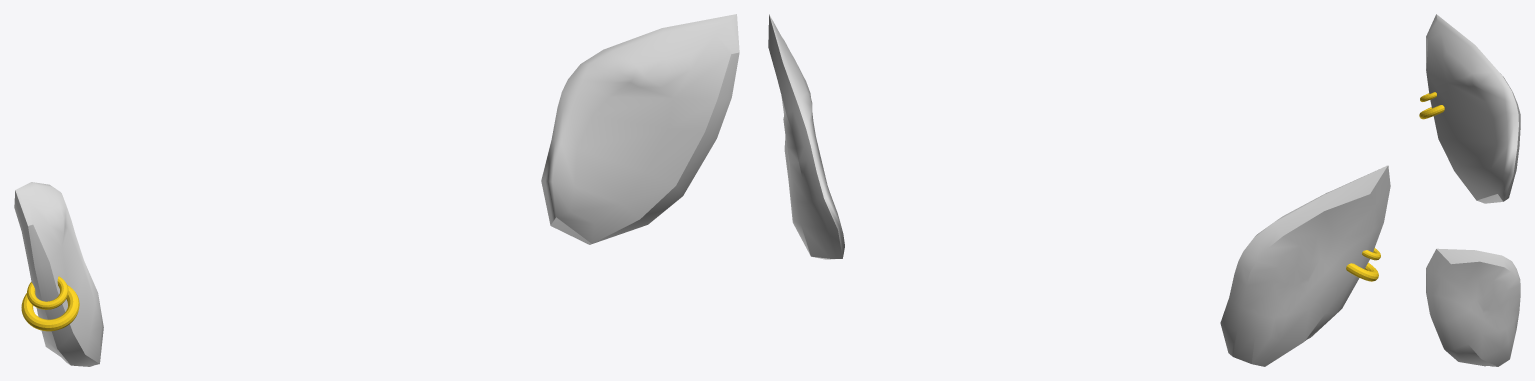
Rendered from OrcEars2.fbx.
The picture shows the model from 3 angles, left to right: view 1: azimuth 30°, elevation 25°; view 2: azimuth 150°, elevation 25°; view 3: azimuth 270°, elevation 25°; orthographic projection. The views are drawn at different scales.
Parts seen in each view (by area): view 1: LeftEar, Torus, Torus.001; view 2: LeftEar; view 3: LeftEar, Torus, Torus.001.
Boxes of the visible parts, x1,y1,x2,y2 form: LeftEar: (14, 14, 739, 366); Torus: (21, 285, 79, 331); Torus.001: (27, 276, 68, 309); LeftEar: (768, 14, 1390, 366); LeftEar: (1426, 14, 1520, 366); Torus: (1419, 105, 1444, 119); Torus.001: (1420, 92, 1436, 101).
Size of the model in its own units: 0.3259 by 0.0995 by 0.0595.
